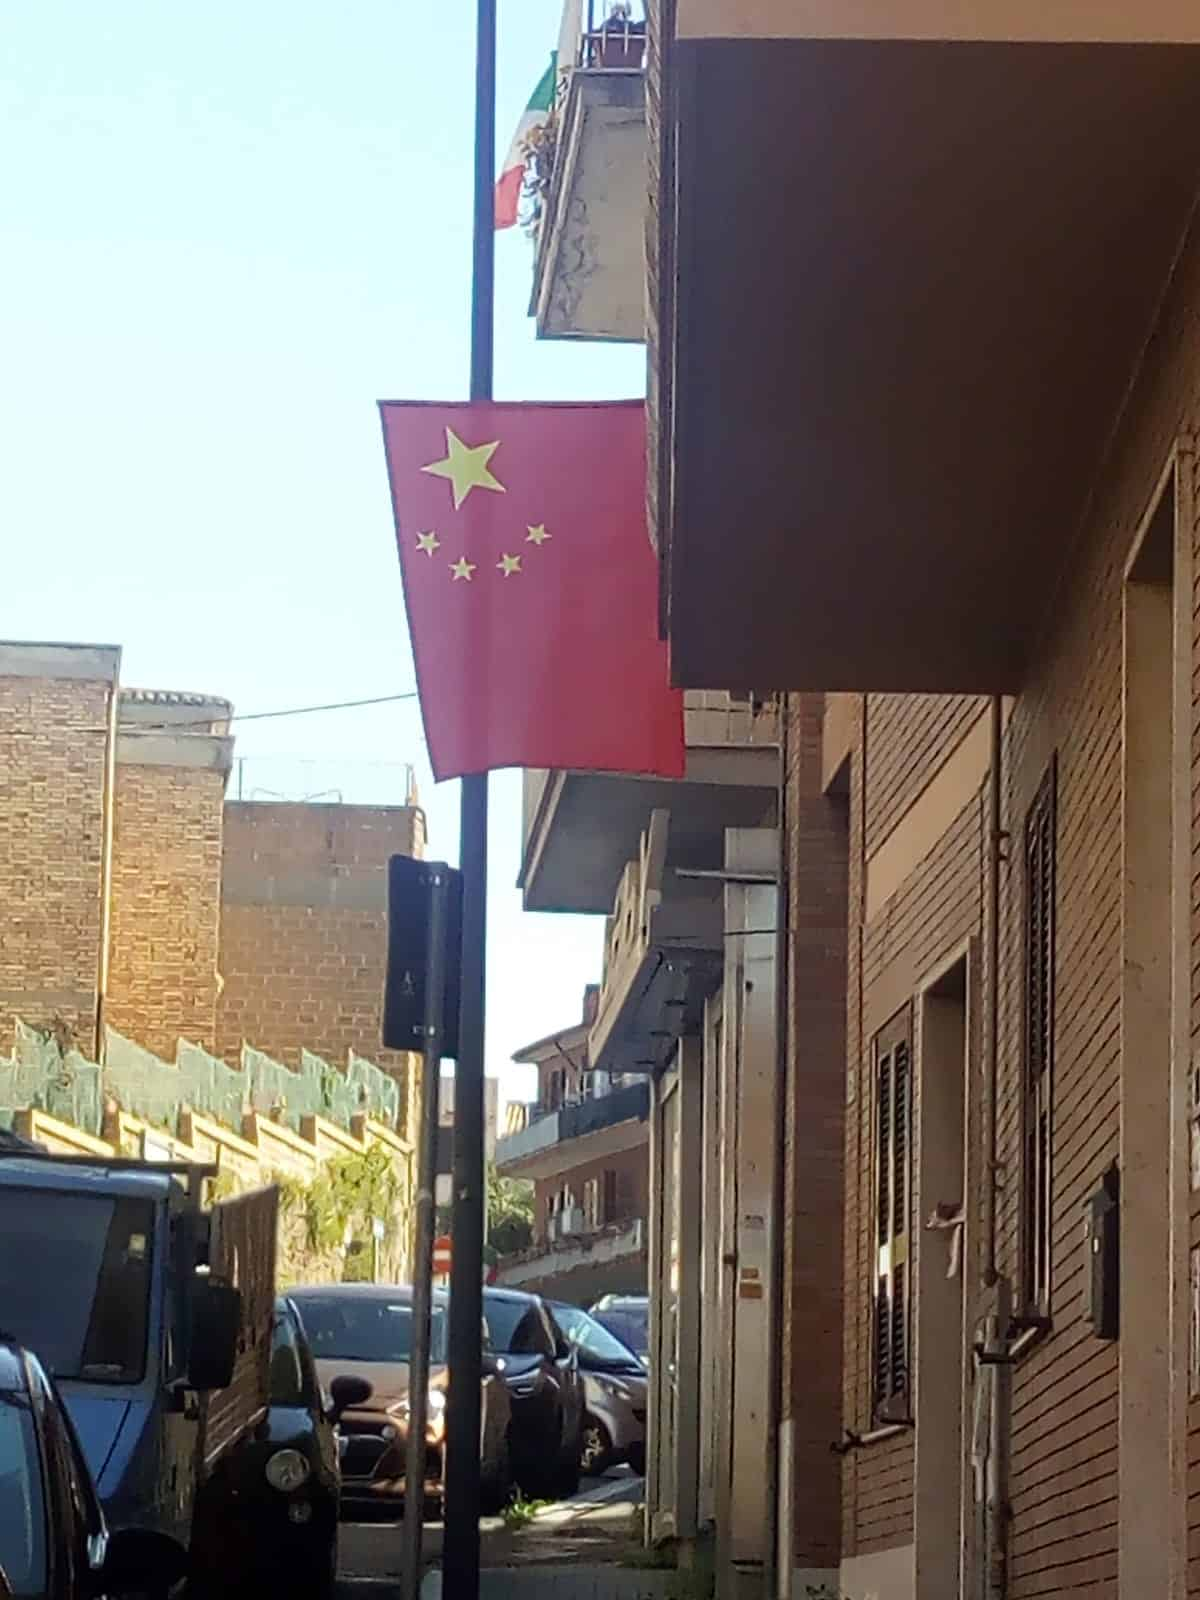Flag: (368, 392, 695, 787)
